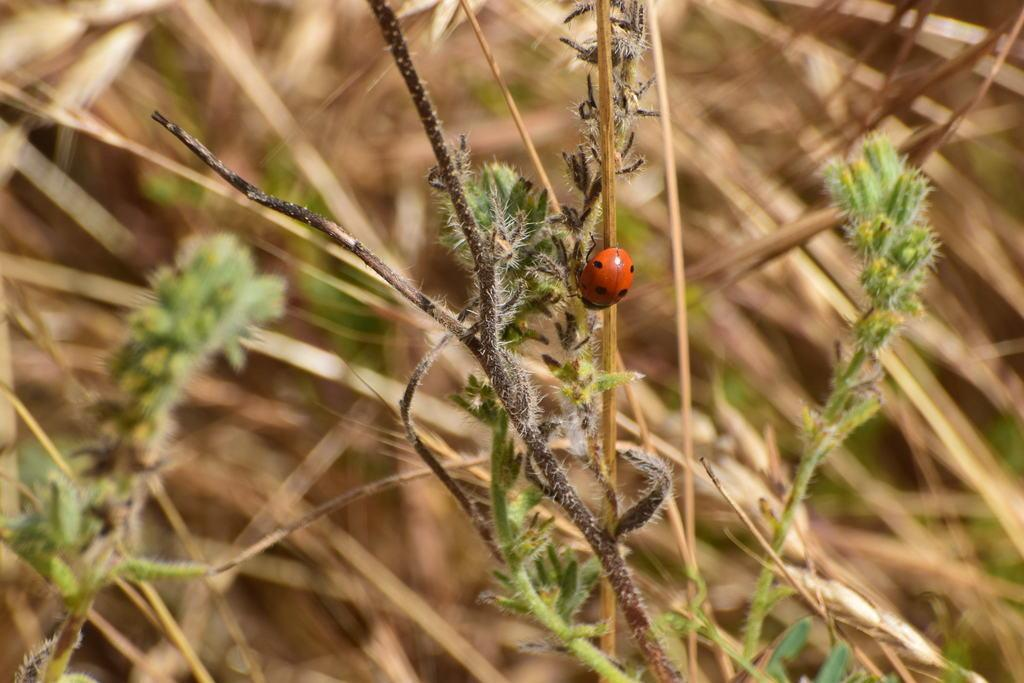ladybug: (565, 233, 641, 313)
